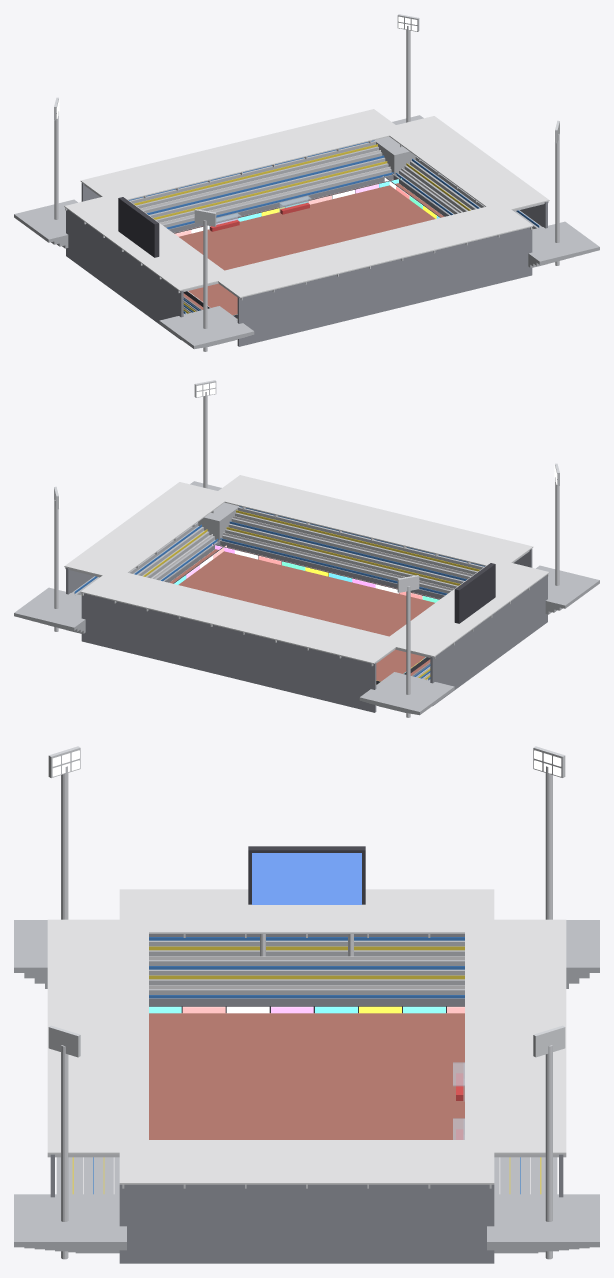
File: estadio.glb
3 renders of one model, top to bottom at view 1: azimuth 30°, elevation 25°; view 2: azimuth 150°, elevation 25°; view 3: azimuth 270°, elevation 25°, orthographic. The views are drawn at different scales.
Parts seen in each view (by area): view 1: estadio; view 2: estadio; view 3: estadio.
Boxes of the visible parts, left/top/right/bottom form: estadio: left=14, top=14, right=599, bottom=351; estadio: left=14, top=380, right=599, bottom=717; estadio: left=14, top=746, right=599, bottom=1263.
Bounding box in the file's own units: 104 × 34.11 × 79.8.
